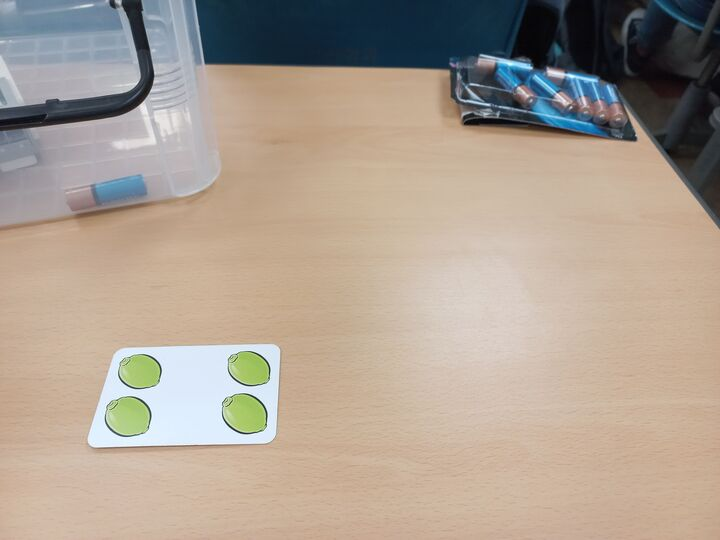lime4: (82, 340, 284, 452)
